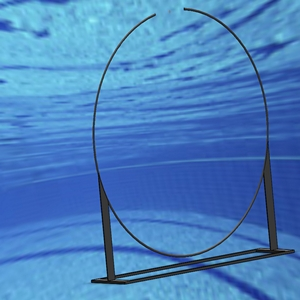circle: (91, 5, 297, 284)
